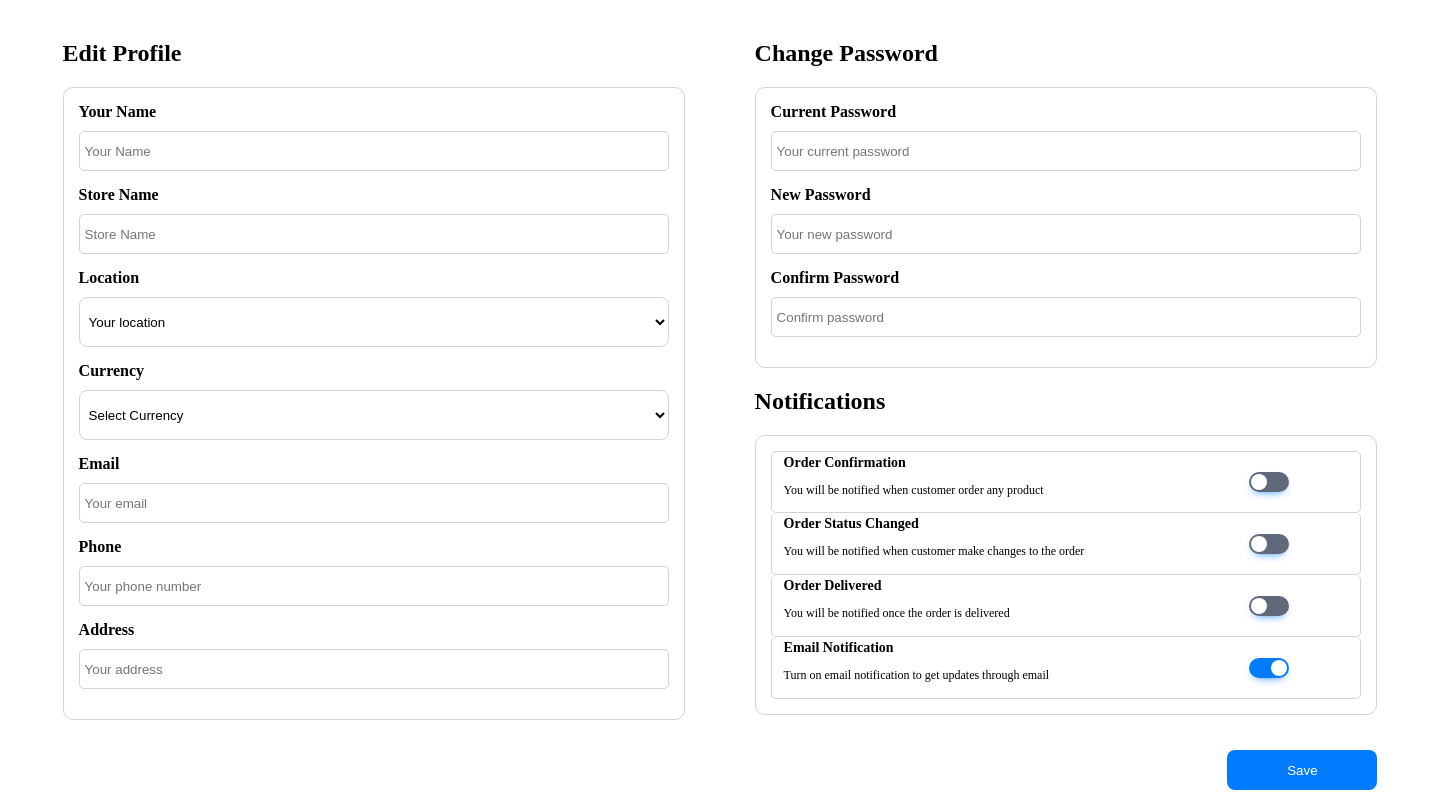
it: Edit profile form tests › Edit profile fieldset tests › should validate user name field
Type "1" into the field with test id "user-name" at [374, 151], box [79,131,669,171]
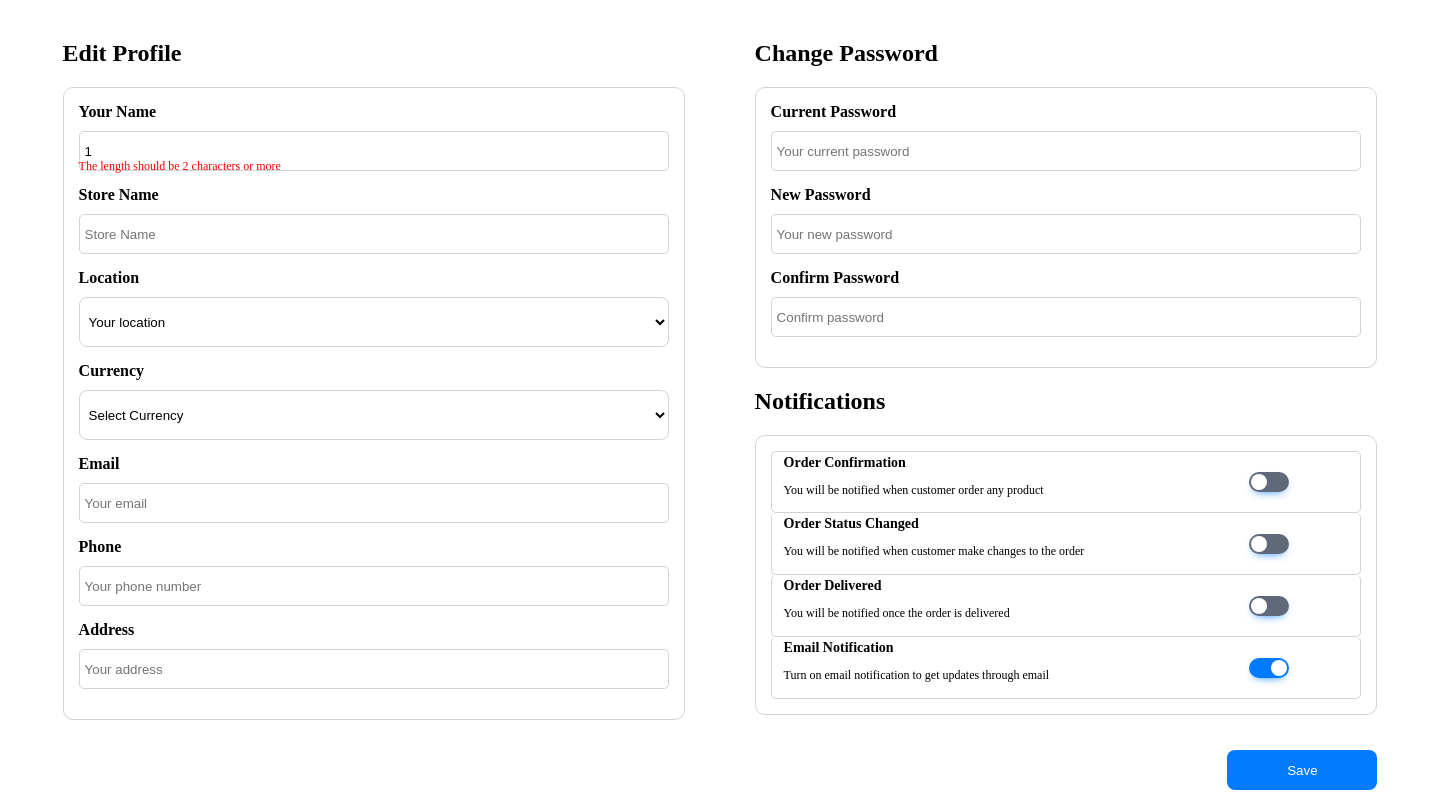
Check: the text "The length should be 2 characters or more" is shown, box [79,159,281,174]
Replace the text in the field with test id "user-name" with "123456789012345678901" at [374, 151], box [79,131,669,171]
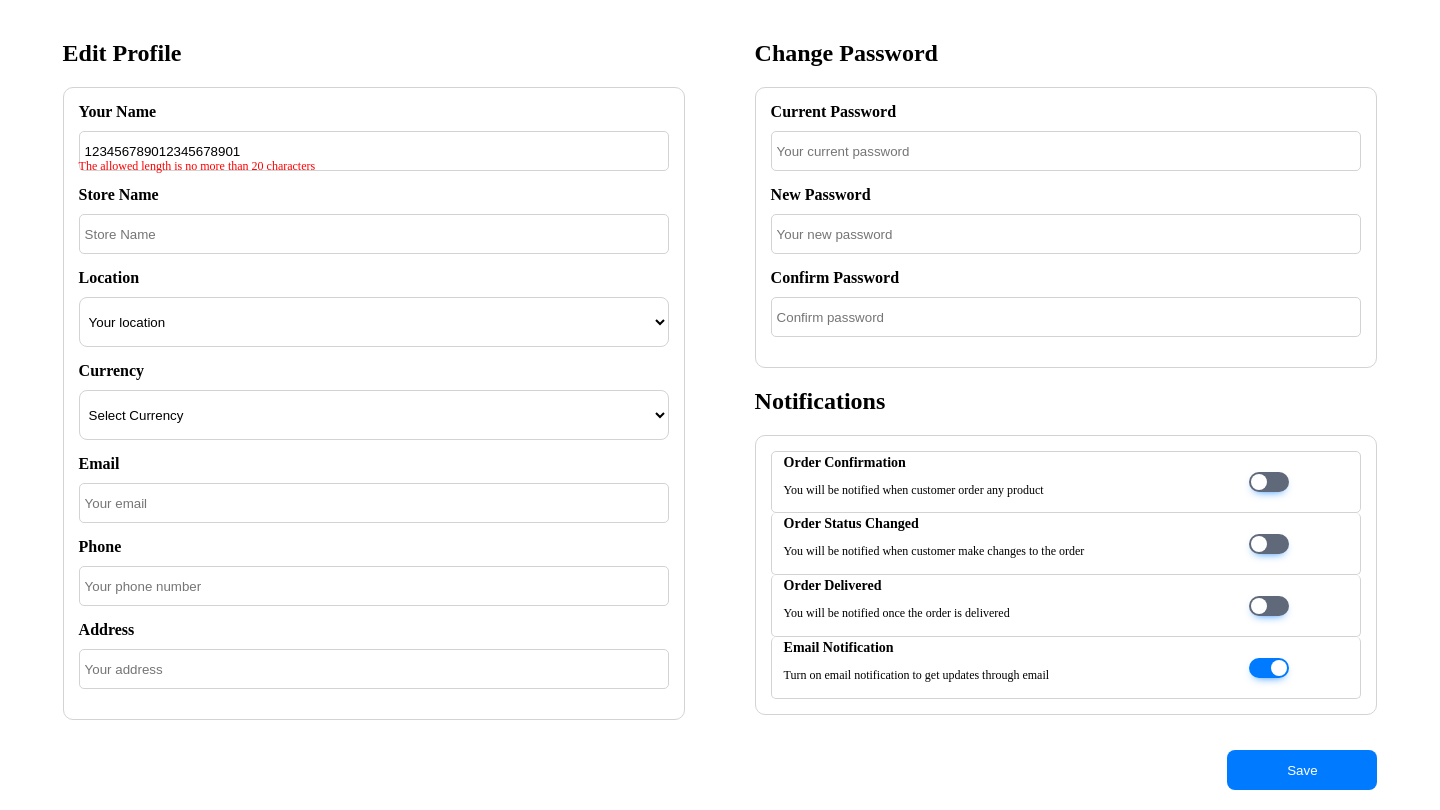
Check: the text "The allowed length is no more than 20 characters" is shown, box [79,159,315,174]
Clear the field with test id "user-name" at [374, 151], box [79,131,669,171]
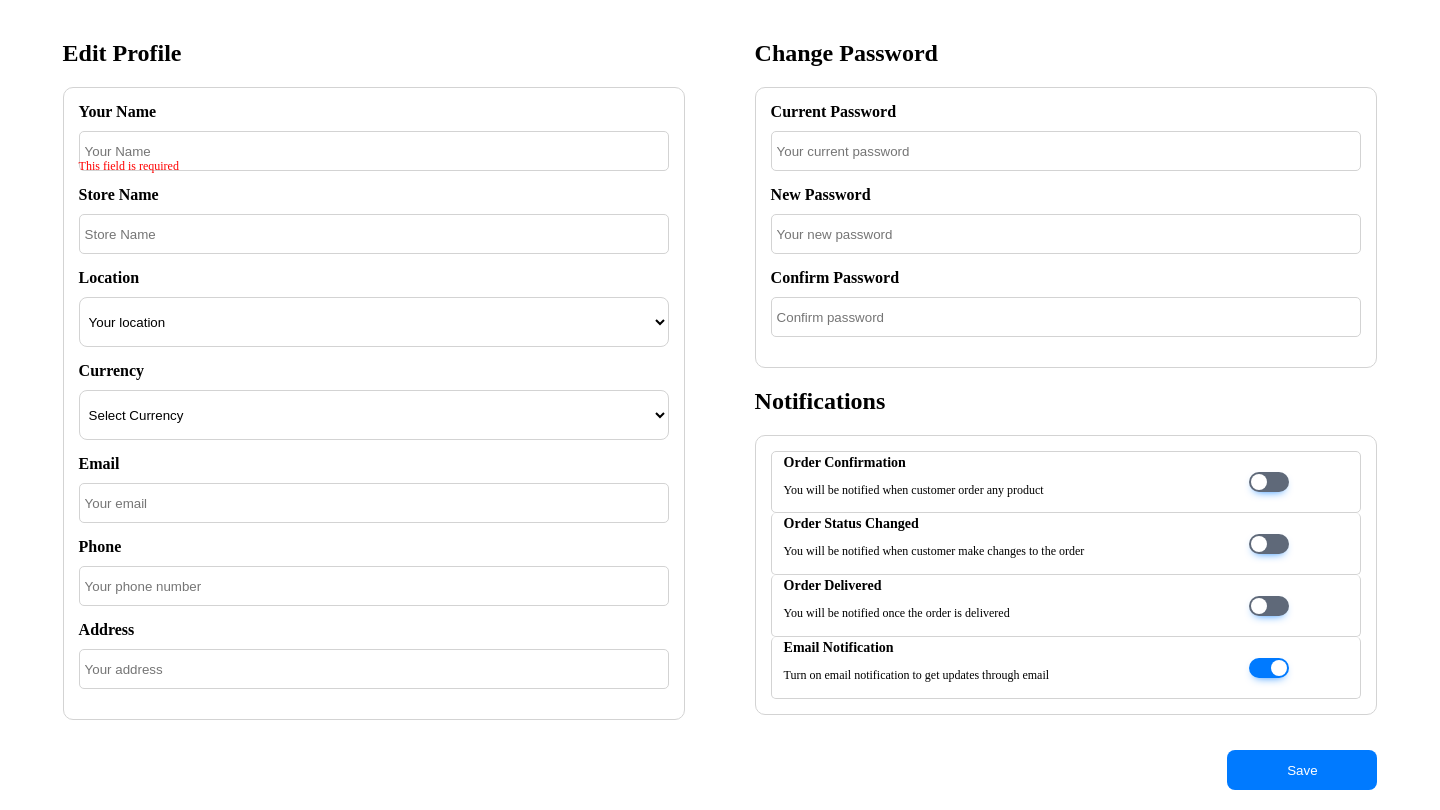
Check: the text "This field is required" is shown, box [79,159,179,174]
